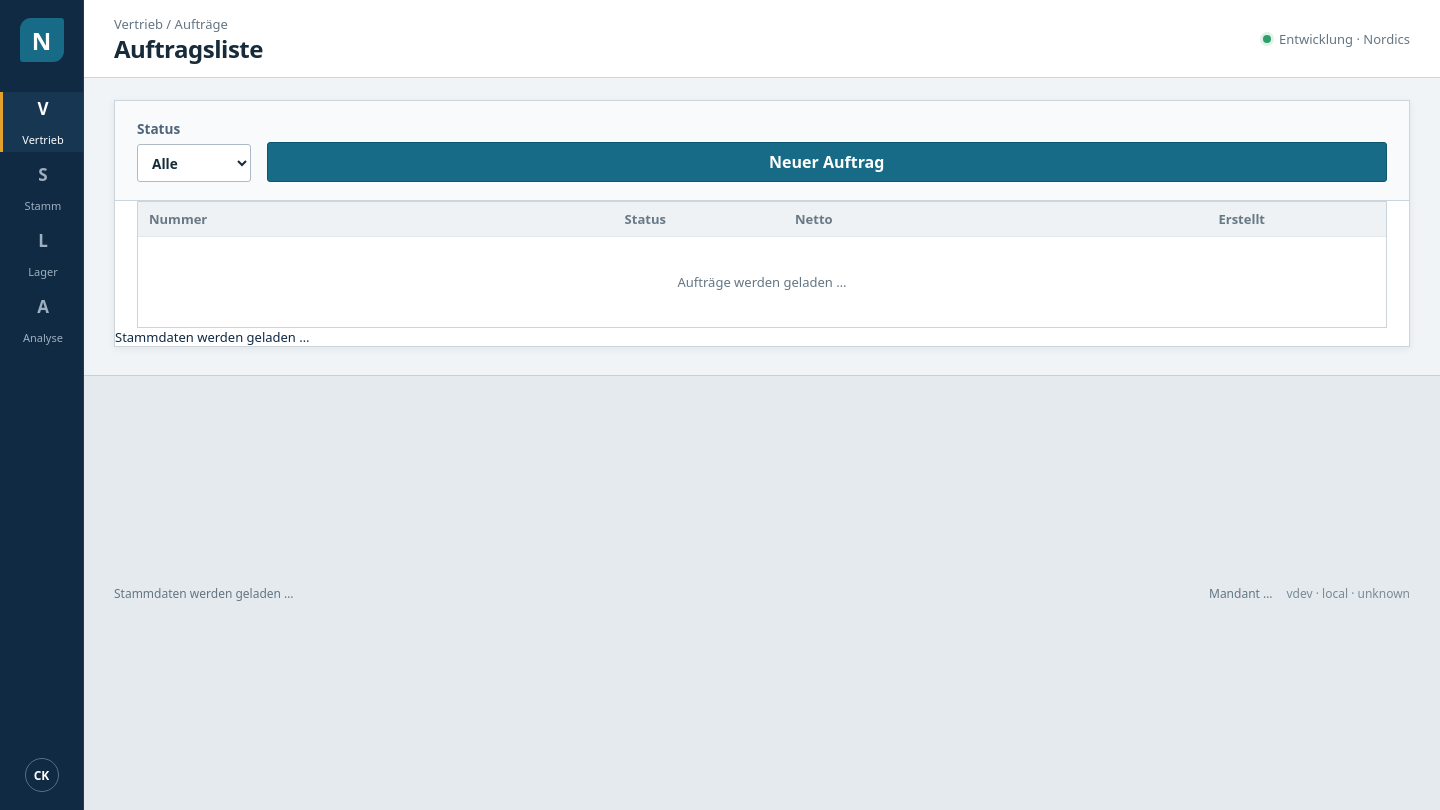
Test: opens stamm workspace for articles and addresses
Expected: the heading "Auftragsliste" is shown, [114,36,263,62]
What coordinates should you click on to do the following:
click the button titled "Stammdaten"
I would click on:
 (42, 188)
Its box is [0,158,83,218].
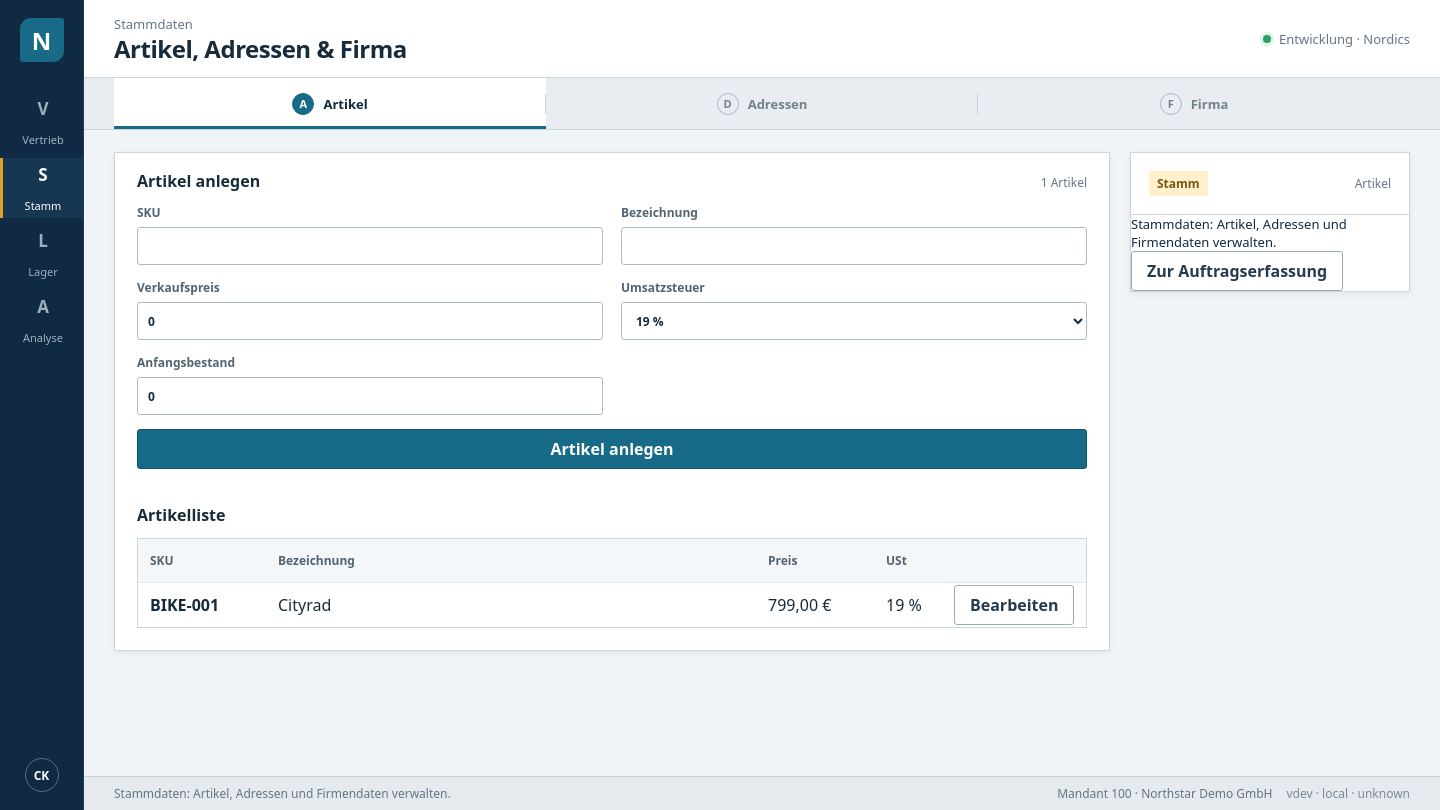
Expected: the heading "Artikel, Adressen & Firma" is shown, [114,36,407,62]
Expected: the button "Artikel anlegen" is shown, [137,429,1087,469]
What coordinates should you click on to do the following:
click the button "D Adressen"
I would click on:
 (762, 104)
Its box is [546,78,978,129].
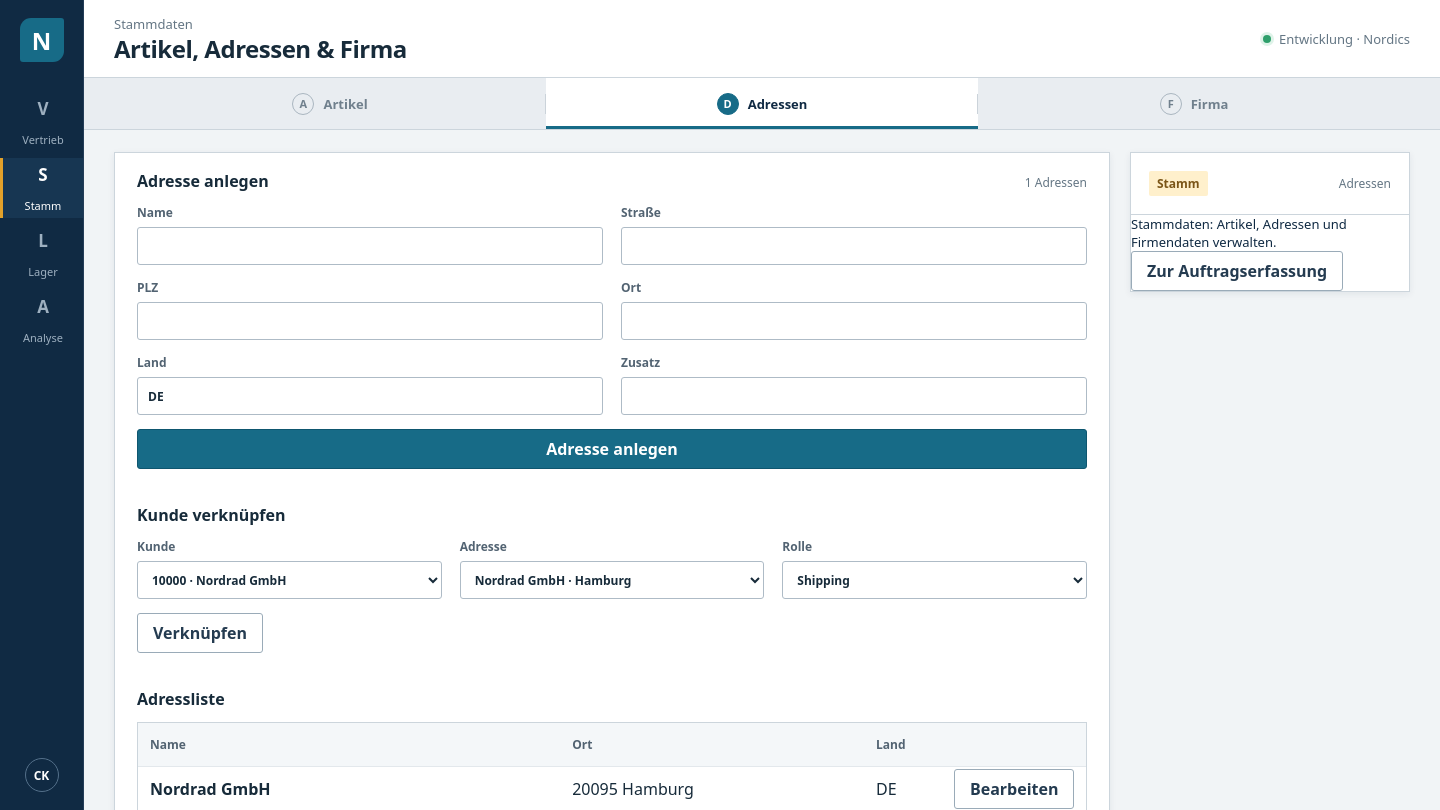
Expected: the button "Adresse anlegen" is shown, [137,429,1087,469]
